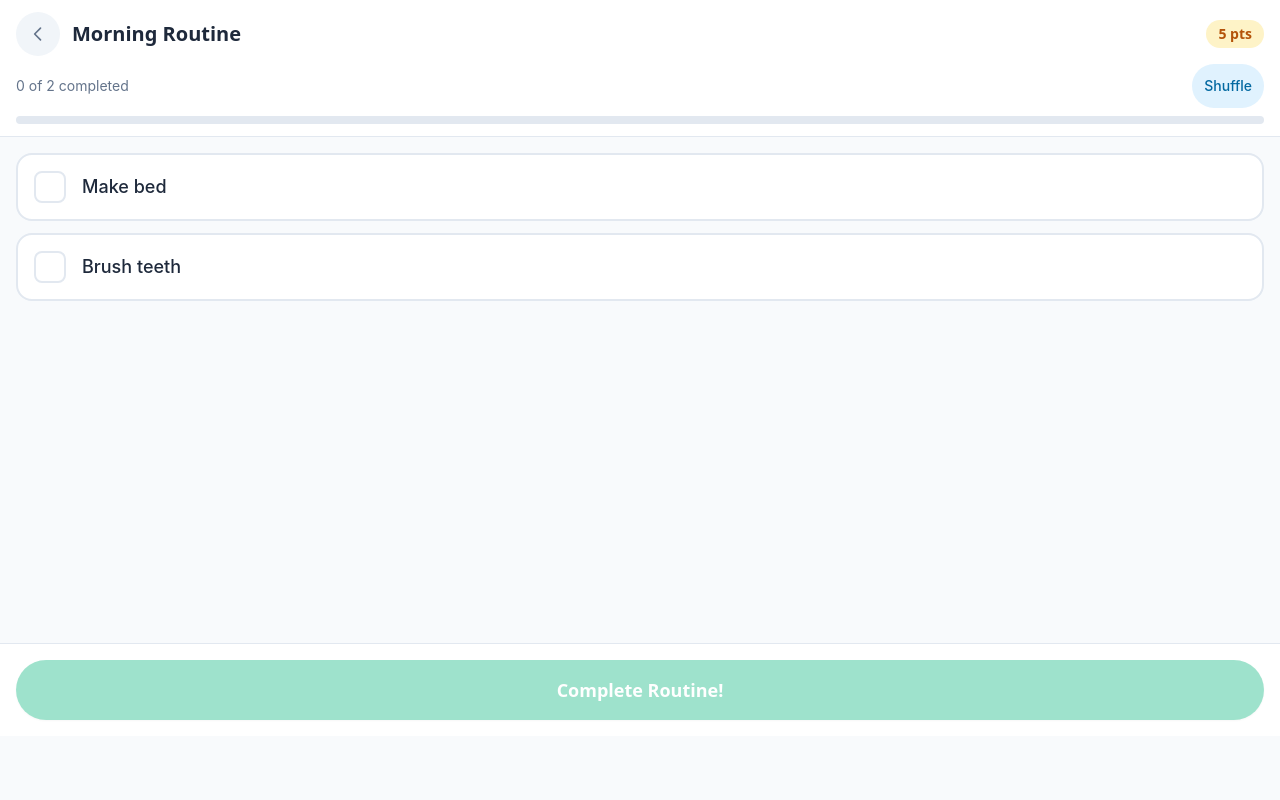
Test: RoutineChecklist › shows pending approval message when routine requires approval
Expected: the text "0 of 2 completed" is shown, top-left (16, 76), bottom-right (129, 96)
Click the checkbox labelled "Brush teeth" at (640, 267), box top-left (16, 233), bottom-right (1264, 301)
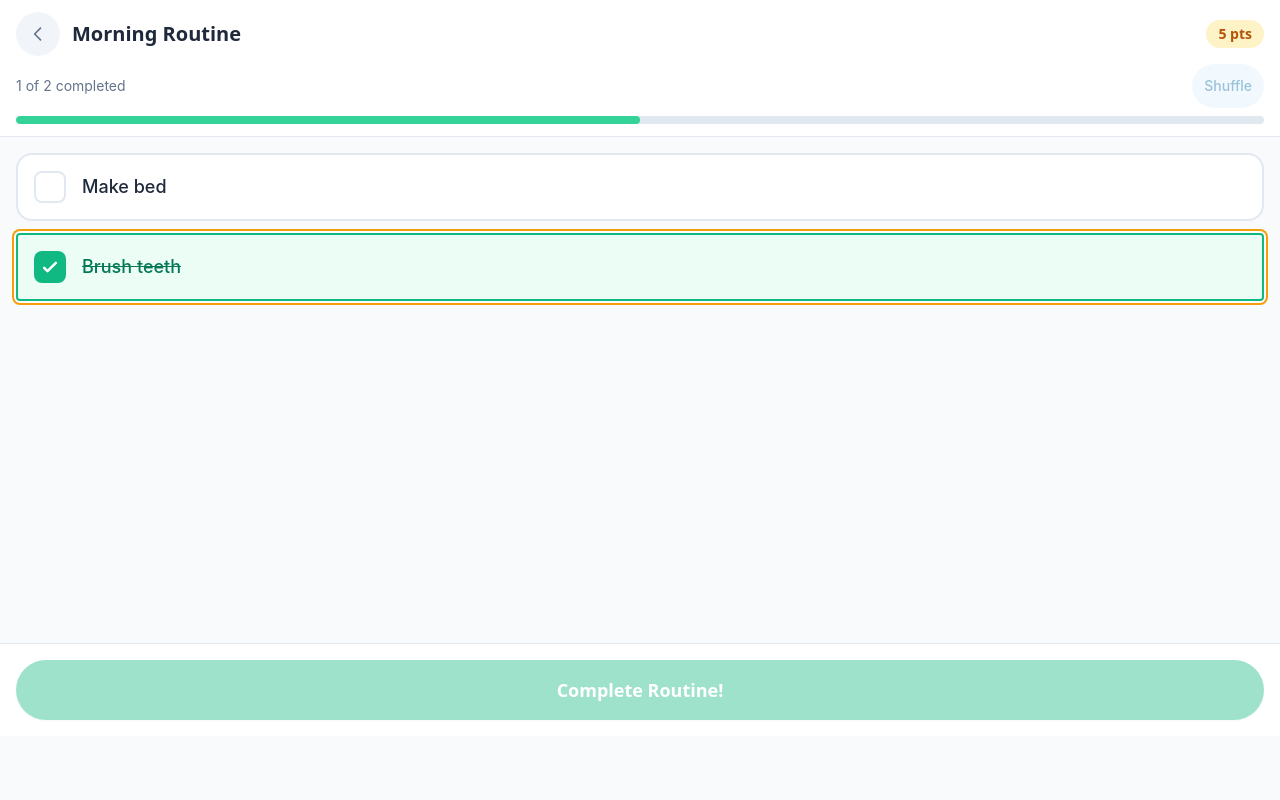
Expected: the checkbox labelled "Brush teeth" is checked, top-left (16, 233), bottom-right (1264, 301)
Click the checkbox labelled "Make bed" at (640, 187), box top-left (16, 153), bottom-right (1264, 221)
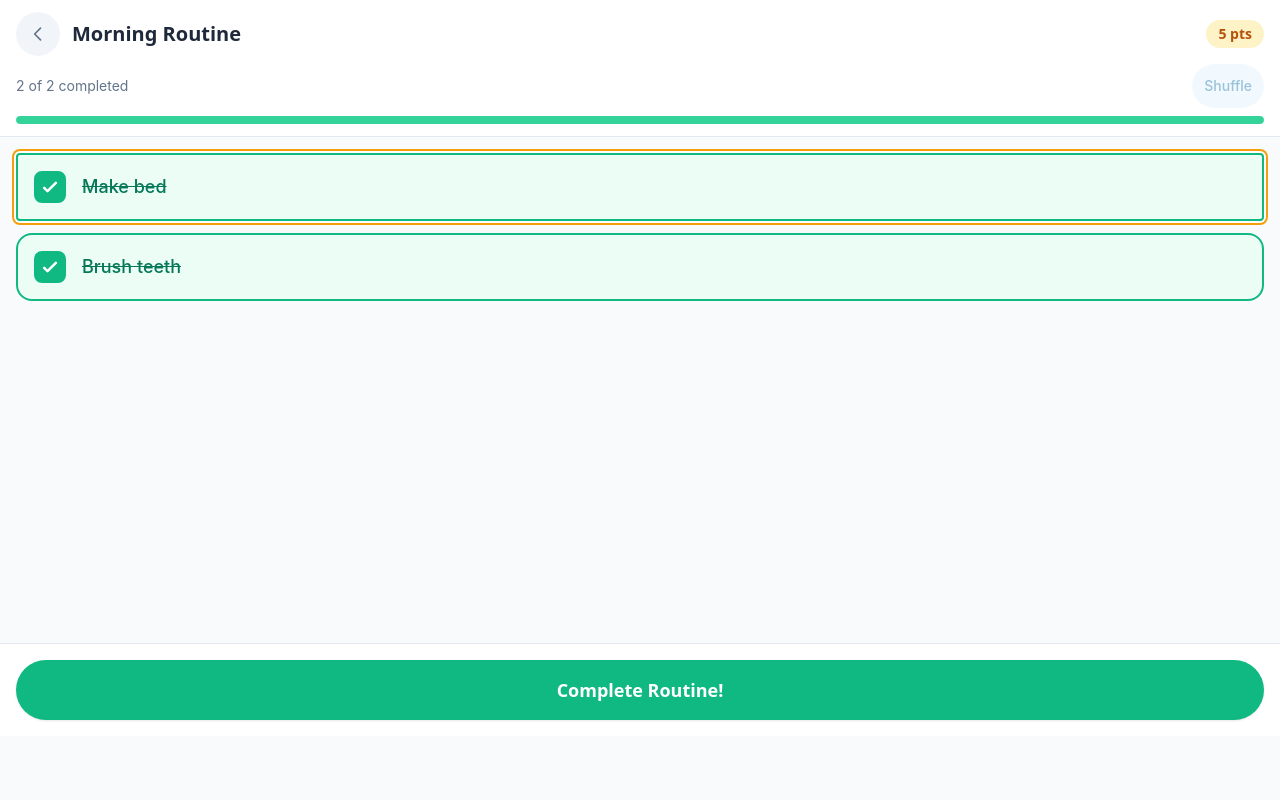
Expected: the button "Complete Routine!" is enabled
Click the button "Complete Routine!" at (640, 690), box top-left (16, 660), bottom-right (1264, 720)
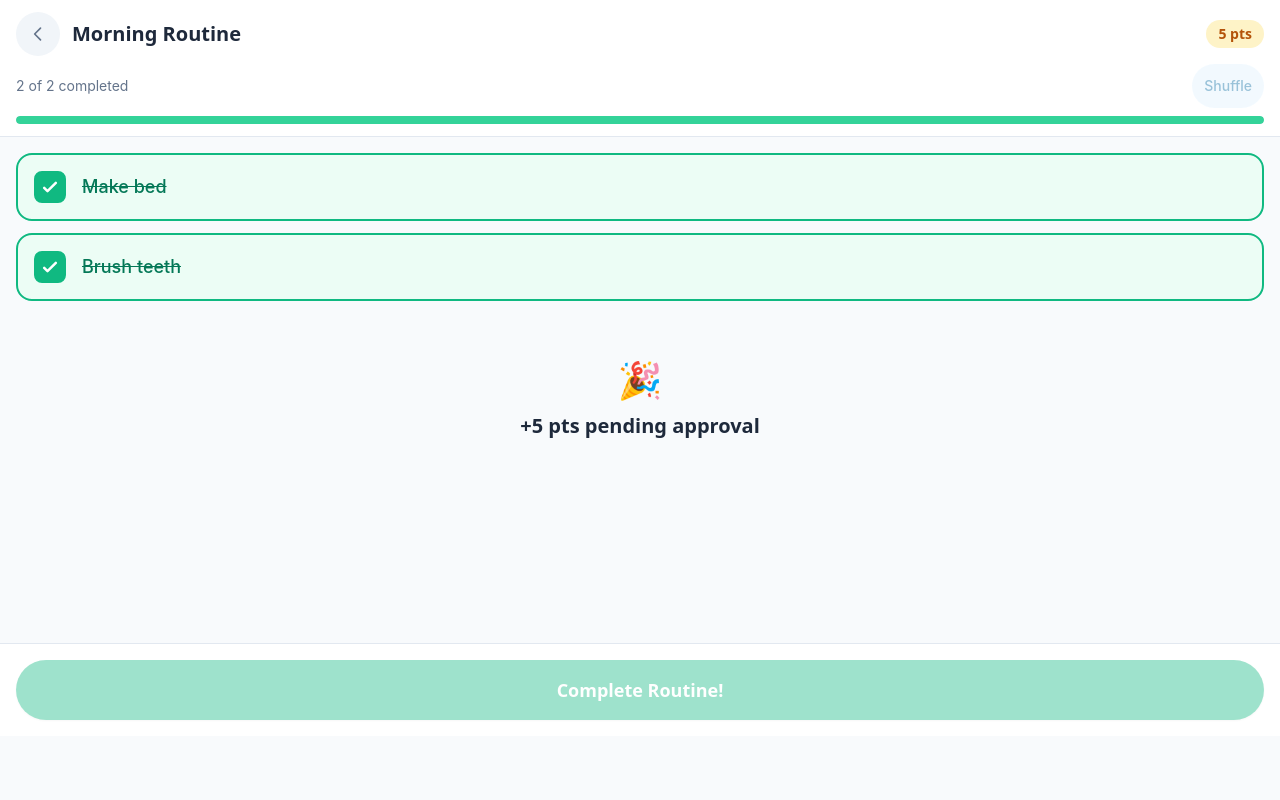
Expected: the text "+5 pts pending approval" is shown, top-left (520, 412), bottom-right (760, 440)
